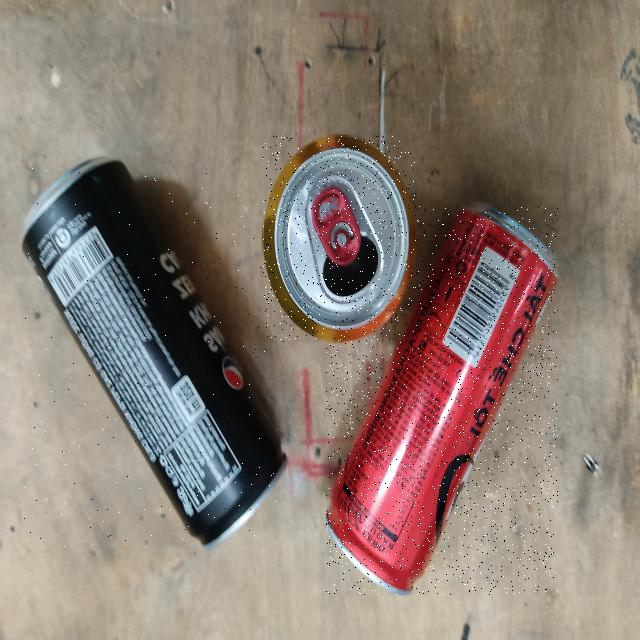metal: (22, 159, 284, 549), (327, 206, 558, 595), (264, 136, 416, 341)
